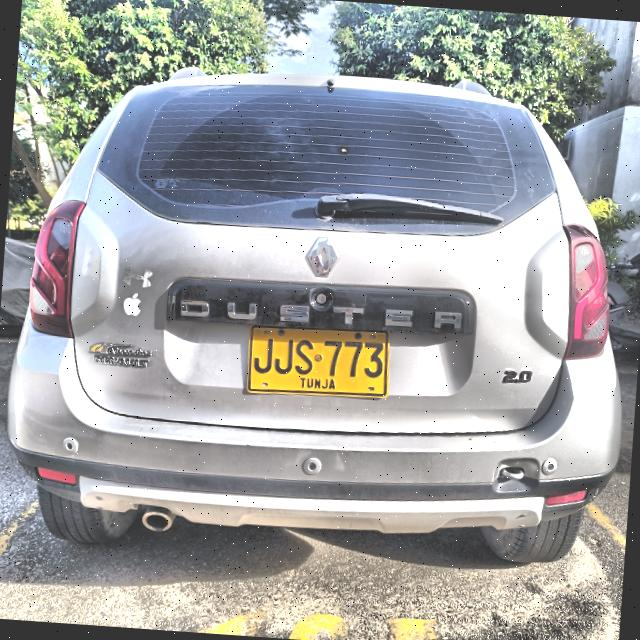3: (361, 342, 385, 379)
7: (341, 340, 364, 378), (321, 339, 343, 377)
J: (272, 337, 296, 376), (252, 336, 274, 375)
S: (292, 338, 316, 376)
